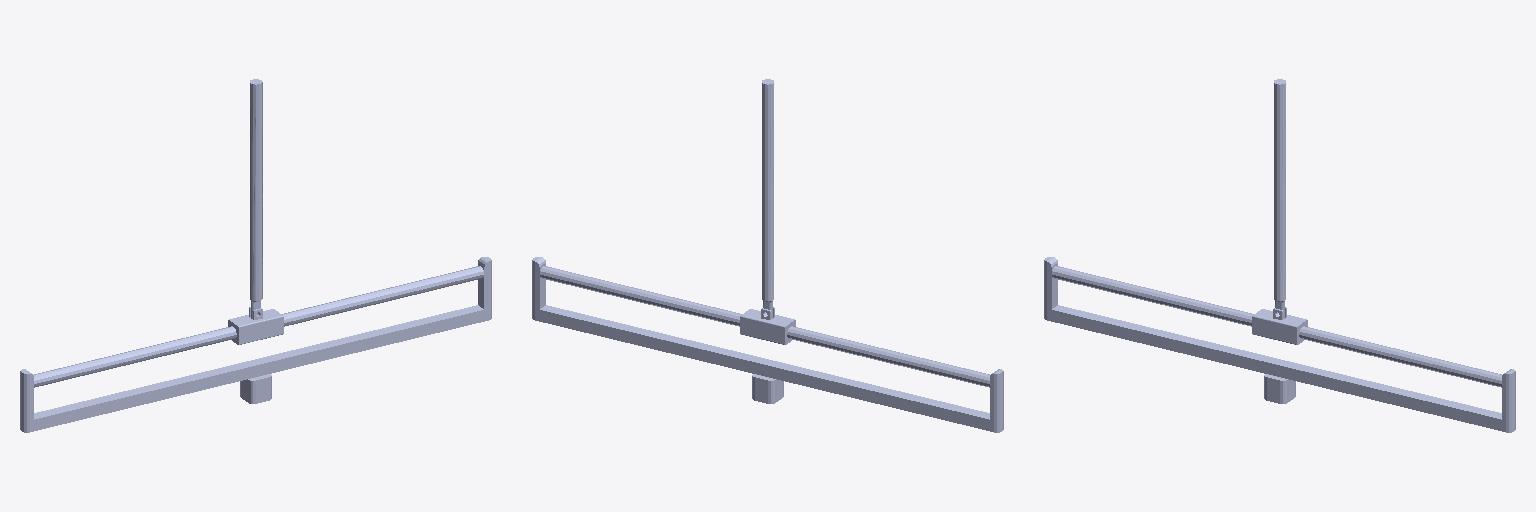
URDF robot description (cartpole):
<?xml version="1.0"?>
<robot name="cartpole">

  <link
    name="pole">
    <inertial>
      <origin
        xyz="5.1965E-17 -6.97039984513016E-10 0.25293"
        rpy="0 0 0" />
      <mass
        value="0.23243" />
      <inertia
        ixx="0.00438754518582167"
        ixy="-1.25253237813376E-10"
        ixz="-2.23831229550661E-18"
        iyy="0.00438769663550614"
        iyz="-2.85547006919033E-11"
        izz="1.79012590972362E-05" />
    </inertial>
    <visual>
      <origin
        xyz="0 0 0"
        rpy="1.5707963267949 0 0" />
      <geometry>
        <mesh
          filename="package://cartpole_gazebo/meshes/pole.STL" />
      </geometry>
      <material
        name="">
        <color
          rgba="0.79216 0.81961 0.93333 1" />
      </material>
    </visual>
    <collision>
      <origin
        xyz="0 0 0"
        rpy="1.5707963267949 0 0" />
      <geometry>
        <mesh
          filename="package://cartpole_gazebo/meshes/pole.STL" />
      </geometry>
    </collision>
  </link>
  
<joint name="cart_pole" type="continuous">
    <origin xyz="0 0 0.030" rpy="0 0 0"></origin>
    <parent link="cart"></parent>
    <child link="pole"></child>
    <axis xyz="0 -1 0"></axis>
    <limit effort="30" lower="-0.785398" upper="0.785398" velocity="7.0"></limit>
    <dynamics damping="0.0" friction="0.0"/>
</joint>

<link
    name="cart">
    <inertial>
      <origin
        xyz="-9.5599E-18 1.33425381707038E-17 0.00084171"
        rpy="0 0 0" />
      <mass
        value="0.11377" />
      <inertia
        ixx="4.1669682348633E-05"
        ixy="-1.04625761823806E-20"
        ixz="5.44975644882897E-21"
        iyy="0.0001144665328628"
        iyz="1.214627773683E-21"
        izz="0.000111738946564849" />
    </inertial>
    <visual>
      <origin
        xyz="0 0 0"
        rpy="1.5707963267949 0 0" />
      <geometry>
        <mesh
          filename="package://cartpole_gazebo/meshes/cart.STL" />
      </geometry>
      <material
        name="">
        <color
          rgba="0.79216 0.81961 0.93333 1" />
      </material>
    </visual>
    <collision>
      <origin
        xyz="0 0 0"
        rpy="1.5707963267949 0 0" />
      <geometry>
        <mesh
          filename="package://cartpole_gazebo/meshes/cart.STL" />
      </geometry>
    </collision>
  </link>
  
  <joint name="stand_cart" type="prismatic">
    <origin xyz="0 0.0 0.150" rpy="0 0 0"></origin>
    <parent link="stand"></parent>
    <child link="cart"></child>
    <axis xyz="1 0 0"></axis>
    <limit effort="30" lower="-0.5" upper="0.5" velocity="7.0"></limit>
    <dynamics damping="0.0" friction="0.0"/>
  </joint>

  <link
    name="stand">
    <inertial>
      <origin
        xyz="-2.879E-16 3.75073144169983E-17 0.078463"
        rpy="0 0 0" />
      <mass
        value="1.0356" />
      <inertia
        ixx="0.00182223142735174"
        ixy="4.12334734934176E-19"
        ixz="-9.25906326235474E-18"
        iyy="0.097952048263061"
        iyz="-8.11897527850453E-19"
        izz="0.0962757383045765" />
    </inertial>
    <visual>
      <origin
        xyz="0 0 0"
        rpy="1.5707963267949 0 0" />
      <geometry>
        <mesh
          filename="package://cartpole_gazebo/meshes/stand.STL" />
      </geometry>
      <material
        name="">
        <color
          rgba="0.79216 0.81961 0.93333 1" />
      </material>
    </visual>
    <collision>
      <origin
        xyz="0 0 0"
        rpy="1.5707963267949 0 0" />
      <geometry>
        <mesh
          filename="package://cartpole_gazebo/meshes/stand.STL" />
      </geometry>
    </collision>
  </link>



 <link name="world"/>

 <joint name="grounding" type="fixed">
    <origin xyz="0 0 0" rpy="0 0 0"></origin>
    <parent link="world"/>
    <child link="stand"/>
  </joint>


  <gazebo>
  <!-- <dynamics damping="10" friction="100.0"/> -->
  <plugin name="gazebo_ros_control" filename="libgazebo_ros_control.so">
  </plugin>

<!--   <plugin name="joint_state_publisher" filename="libgazebo_ros_joint_state_publisher.so">
          <robotNamespace>/cartpole</robotNamespace>
          <jointName>cart_pole</jointName>
          <updateRate>10.0</updateRate>
          <alwaysOn>true</alwaysOn>
  </plugin> -->

  </gazebo>



  <transmission name="tran1">
    <type>transmission_interface/SimpleTransmission</type>
    <joint name="stand_cart">
      <hardwareInterface>EffortJointInterface</hardwareInterface>
    </joint>
    <actuator name="motor1">
      <hardwareInterface>EffortJointInterface</hardwareInterface>
      <mechanicalReduction>1</mechanicalReduction>
    </actuator>
  </transmission>

  <transmission name="tran2">
    <type>transmission_interface/SimpleTransmission</type>
    <joint name="cart_pole">
      <hardwareInterface>EffortJointInterface</hardwareInterface>
    </joint>
    <actuator name="motor2">
      <hardwareInterface>EffortJointInterface</hardwareInterface>
      <mechanicalReduction>1</mechanicalReduction>
    </actuator>
  </transmission>

  </robot>

--- What the picture shows (computed from the rendered views, not written in the file) ---
The picture shows the robot from 3 angles, left to right: view 1: azimuth 30°, elevation 25°; view 2: azimuth 150°, elevation 25°; view 3: azimuth 330°, elevation 25°; orthographic projection.
Model cartpole with 4 links and 3 joints (1 continuous, 1 prismatic, 1 fixed), rooted at world, posed all joints at 0.
Visible links, largest first — view 1: stand, pole, cart; view 2: stand, pole, cart; view 3: stand, pole, cart.
Boxes of the visible links, x1=… form: stand: x1=20, y1=257, x2=491, y2=432; pole: x1=250, y1=79, x2=262, y2=318; cart: x1=228, y1=307, x2=283, y2=344; stand: x1=532, y1=257, x2=1003, y2=432; pole: x1=762, y1=79, x2=773, y2=318; cart: x1=740, y1=307, x2=795, y2=344; stand: x1=1044, y1=257, x2=1515, y2=432; pole: x1=1274, y1=79, x2=1285, y2=318; cart: x1=1252, y1=307, x2=1307, y2=344.
Bounding box of the posed robot: 1.04 × 0.05 × 0.67 m (x, y, z).
3 mesh visuals loaded from 3 distinct referenced files (3 binary STL).